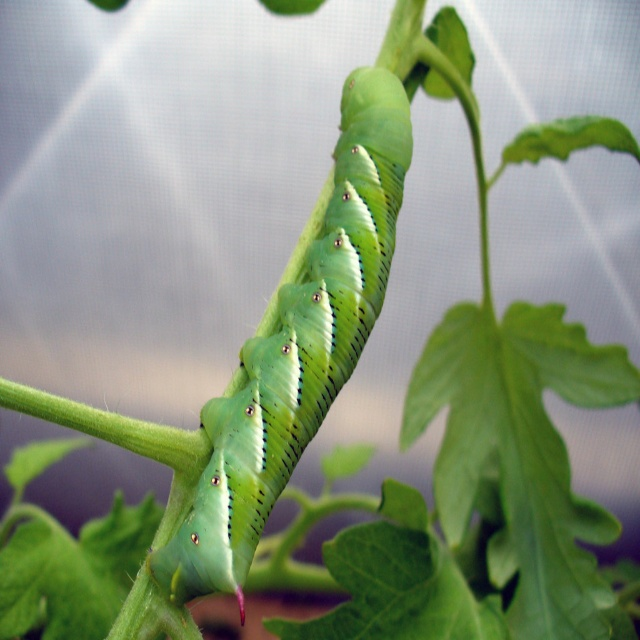Caterpillar: (148, 60, 414, 629)
